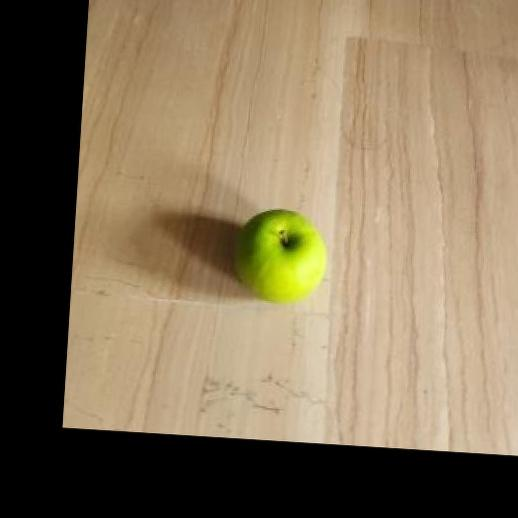green apple: (234, 204, 328, 301)
